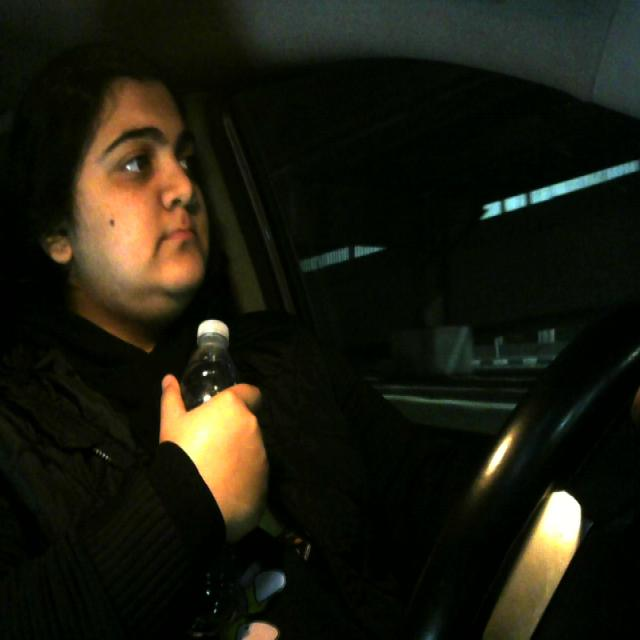drinking: (177, 303, 255, 640)
